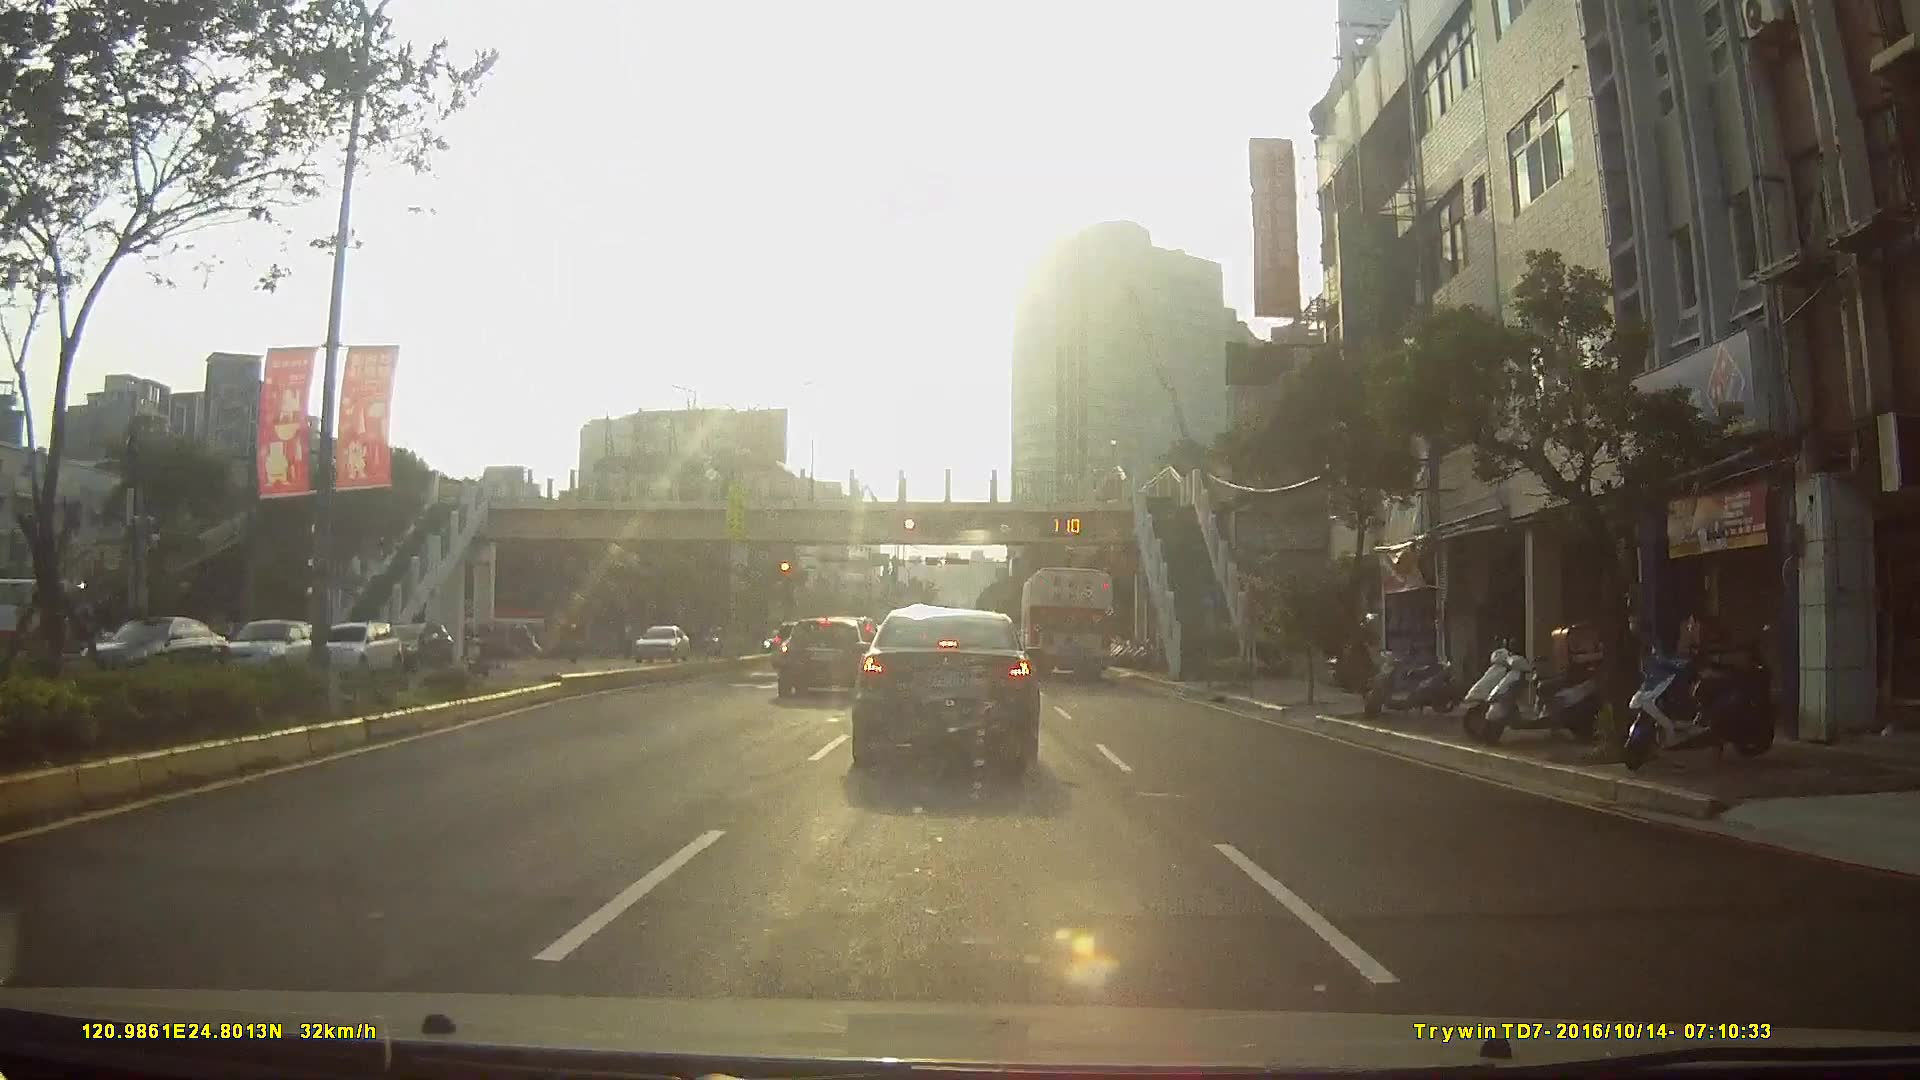rider: (465, 618, 500, 682)
vehicle: (849, 603, 1044, 766), (1018, 566, 1117, 683), (75, 615, 225, 686), (773, 614, 874, 700), (214, 617, 323, 679), (309, 621, 401, 675), (379, 621, 452, 673), (627, 622, 687, 664)
